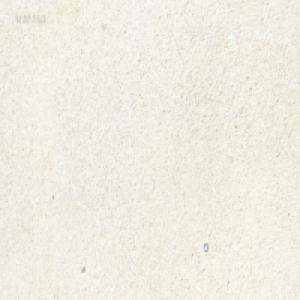Washer: (202, 241, 208, 252)
